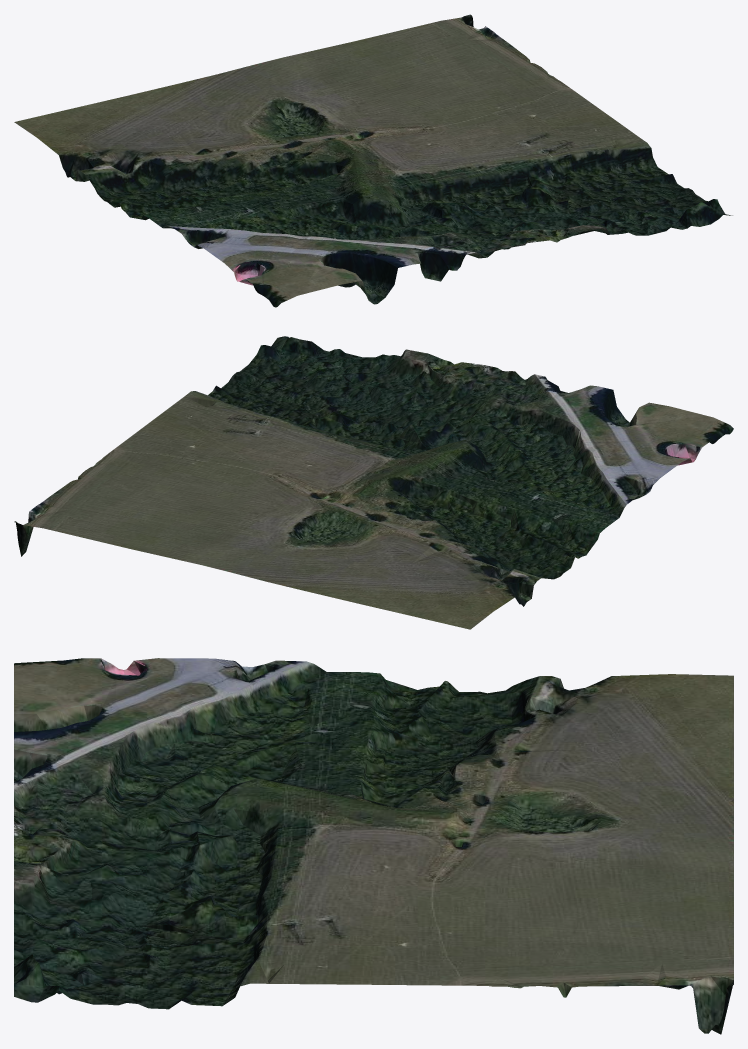
File: map_13_2046_3444.dae
3 views of the same model, one above another, from view 1: azimuth 30°, elevation 25°; view 2: azimuth 150°, elevation 25°; view 3: azimuth 270°, elevation 25° (orthographic). The views are drawn at different scales.
Visible parts, largest first — view 1: Ter0; view 2: Ter0; view 3: Ter0.
Boxes of the visible parts, left/top/right/bottom form: Ter0: left=14, top=14, right=732, bottom=307; Ter0: left=14, top=336, right=733, bottom=629; Ter0: left=14, top=658, right=733, bottom=1034.
Size of the model in its own units: 256 by 256 by 31.6.
Materials: 2 (2 with a texture image).
